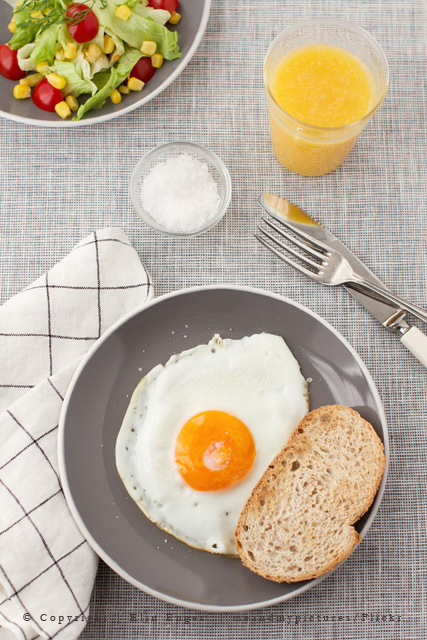chopped lettuce: (98, 5, 177, 81)
fried egg: (112, 329, 310, 525)
slice of bread: (247, 396, 390, 594)
